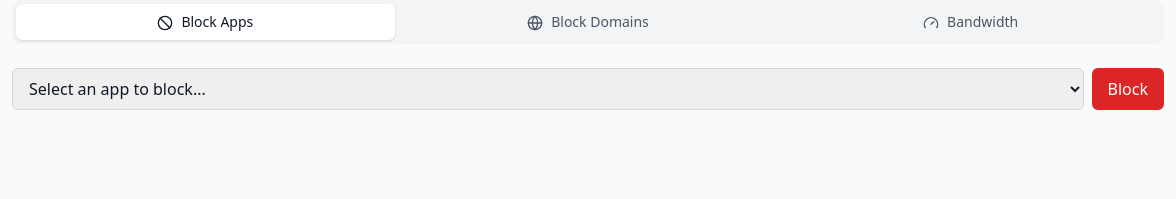
shows persisted rule validation and enforcement failures
This screenshot has width=1176, height=199.
Click the button "Block Domains" at (588, 22), box x1=399 y1=4 x2=777 y2=40
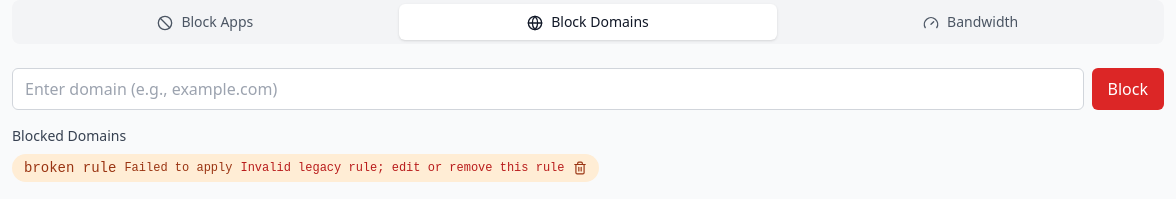
Expected: the text "Invalid legacy rule; edit or remove this rule" is shown, x1=240 y1=160 x2=565 y2=176
Expected: the text "Failed to apply" is shown, x1=124 y1=160 x2=232 y2=176
